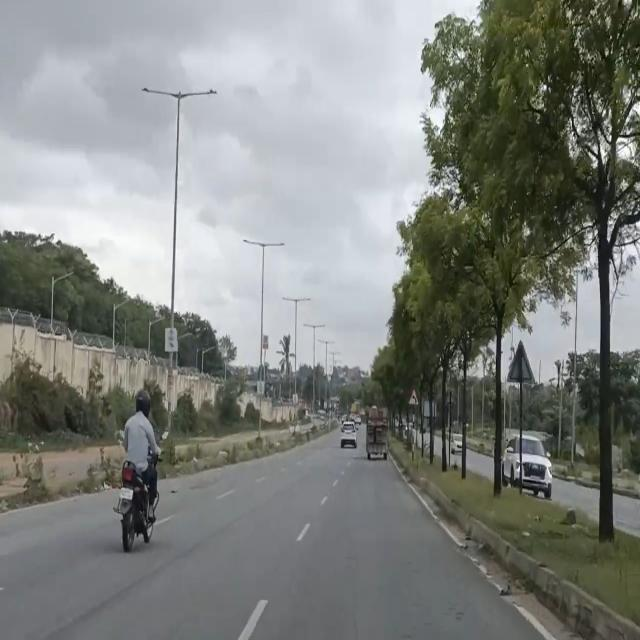bien_cam: (407, 386, 420, 406)
